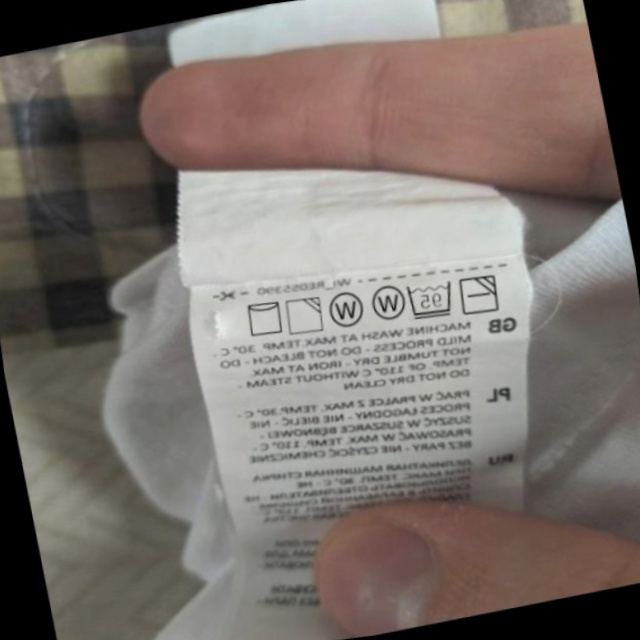95C: (401, 274, 460, 325)
dry_flat_in_shade: (454, 268, 505, 321)
line_dry: (239, 294, 289, 342)
shade_dry: (280, 291, 329, 340)
wet_clean: (364, 277, 410, 327), (323, 286, 369, 335)
